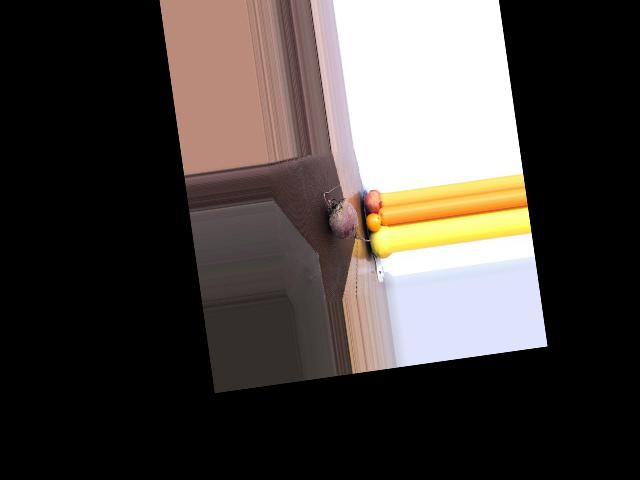beet: (322, 181, 374, 247)
